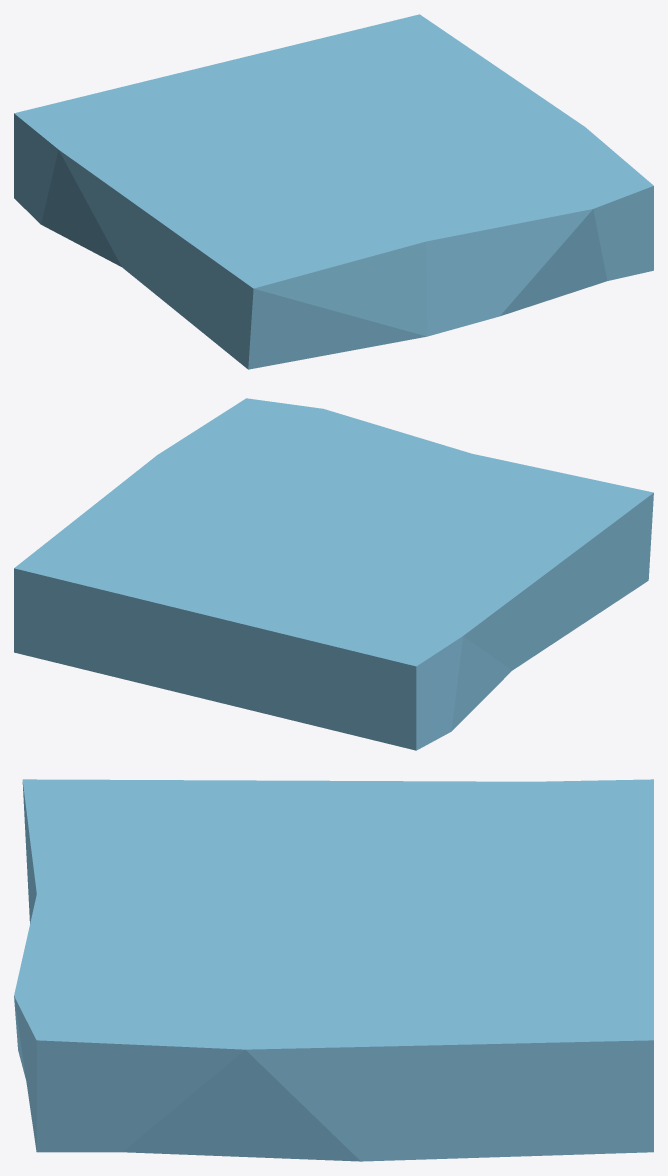
The model's file is top_slice.fbx.
3 renders of one model, top to bottom at view 1: azimuth 30°, elevation 25°; view 2: azimuth 150°, elevation 25°; view 3: azimuth 270°, elevation 25°, orthographic. The views are drawn at different scales.
Visible parts, largest first — view 1: Cube.002; view 2: Cube.002; view 3: Cube.002.
Part boxes in pixels (x1,y1,x2,y2): Cube.002: (14, 14, 653, 369); Cube.002: (14, 398, 653, 750); Cube.002: (14, 779, 653, 1161).
Size of the model in its own units: 207 by 44.73 by 207.
